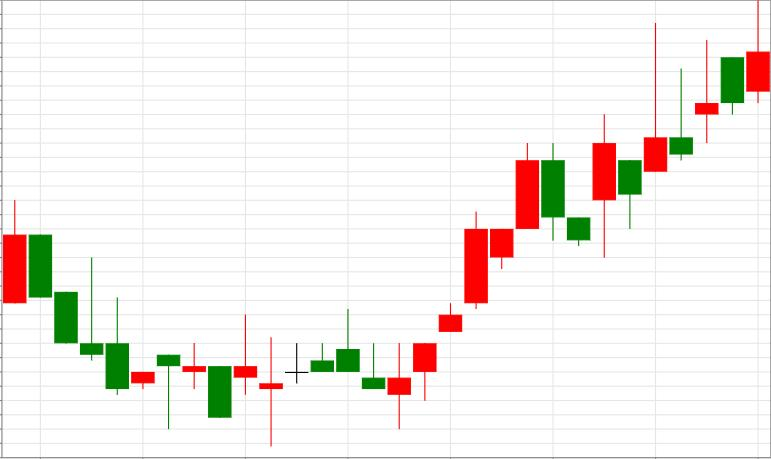bearish_engulfing_fall: (388, 143, 564, 428)
shooting_star_fall: (644, 0, 771, 171)
